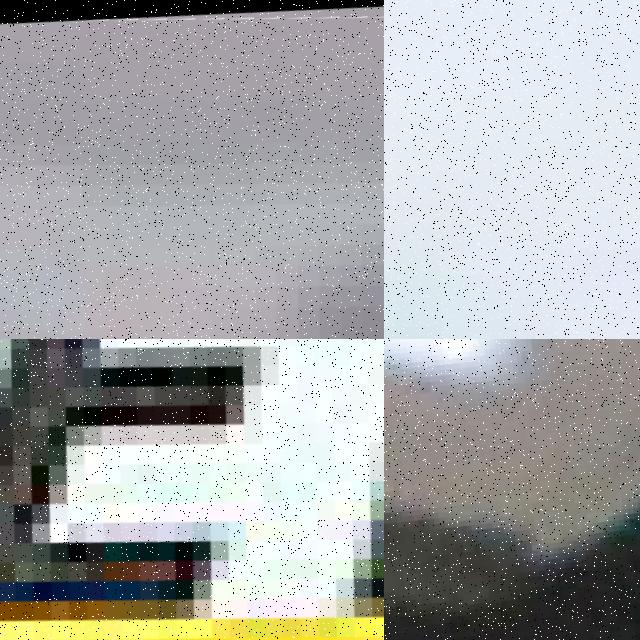0: (0, 0, 384, 339)
drone: (0, 339, 384, 640), (384, 0, 640, 339)
